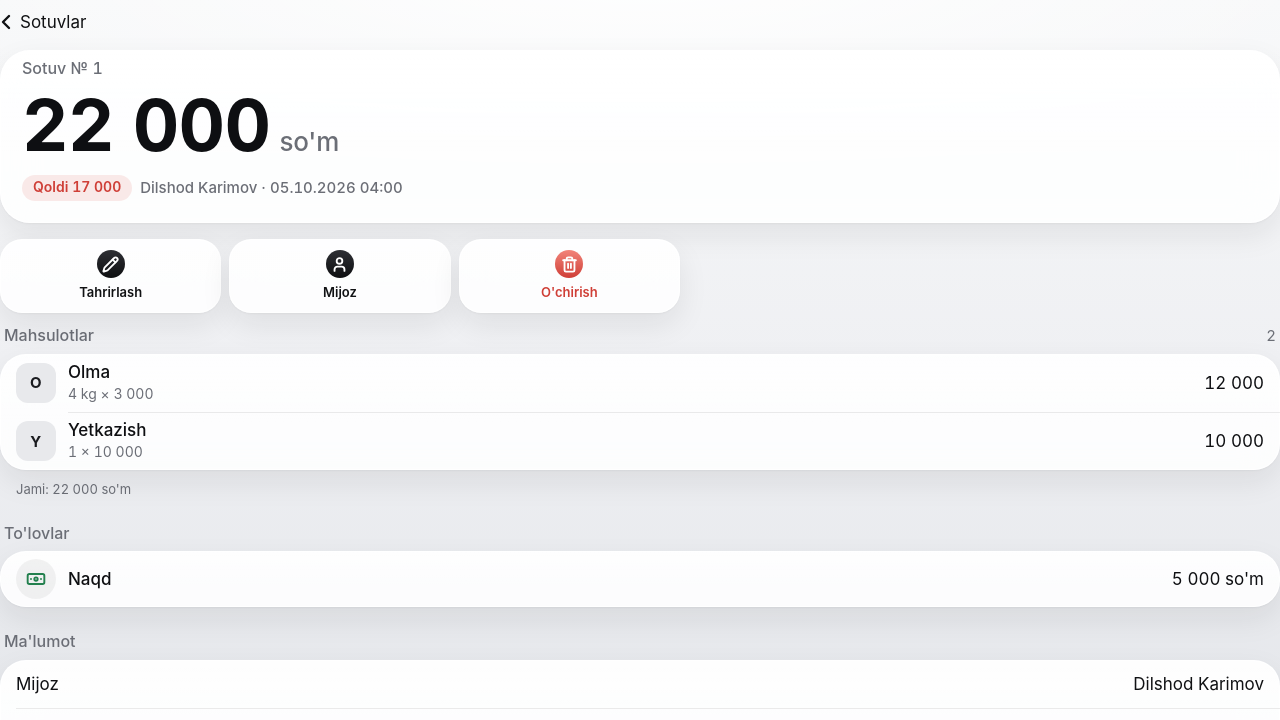
it: deleting the sale gives the products back and leads to the list
The width and height of the screenshot is (1280, 720).
Click the button "O'chirish".
click(569, 276)  # box [459,239,680,313]
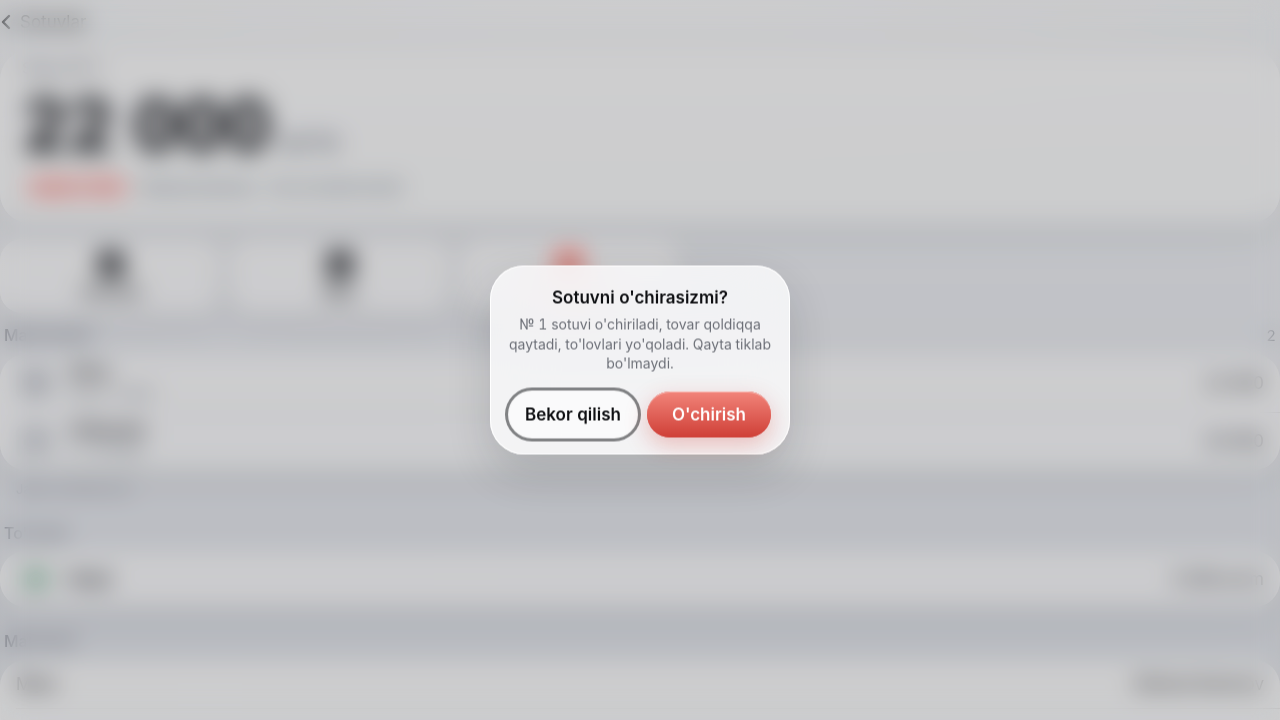
Now the text "№ 1 sotuvi o'chiriladi, tovar qoldiqqa qaytadi, to'lovlari yo'qoladi. Qayta tiklab bo'lmaydi." is shown, box [508,315,772,373]
Click the button "O'chirish".
click(709, 414)  # box [646,390,772,438]
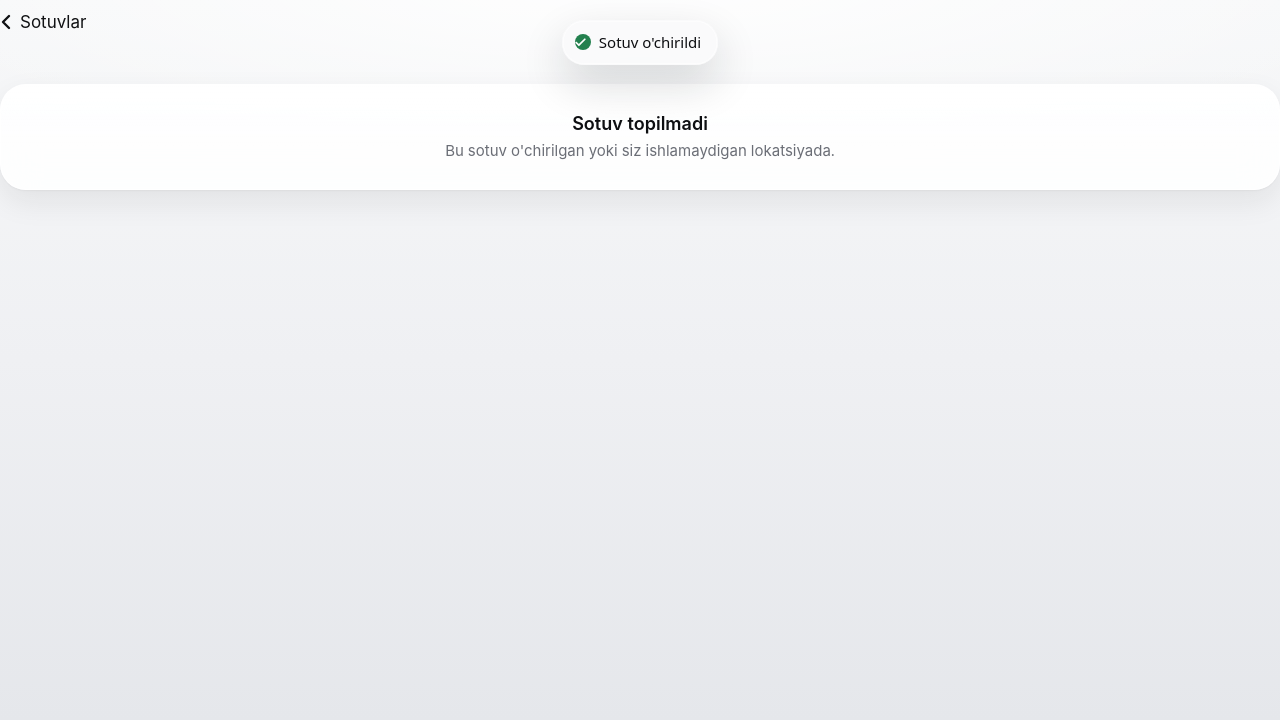
Now the text "Sotuv o'chirildi" is shown, box [599,31,701,54]
